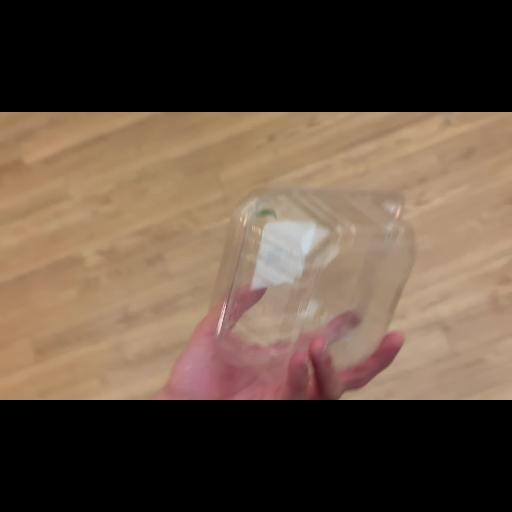small_plastic_container: (212, 186, 416, 390)
